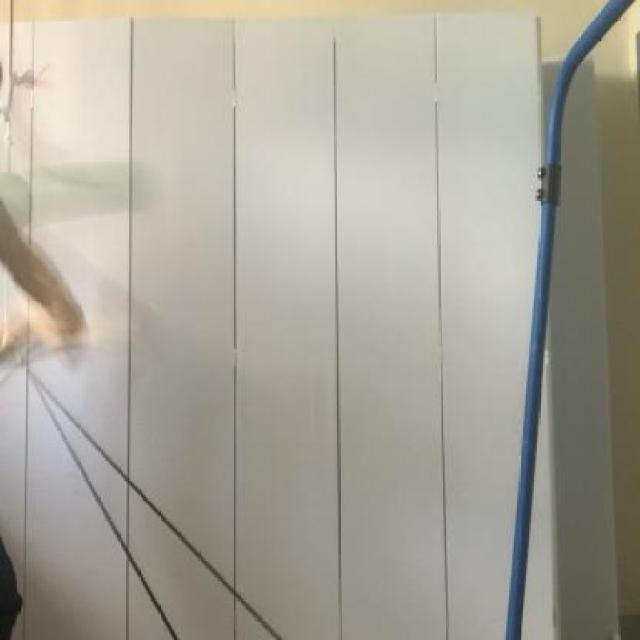baseball: (0, 139, 174, 224)
